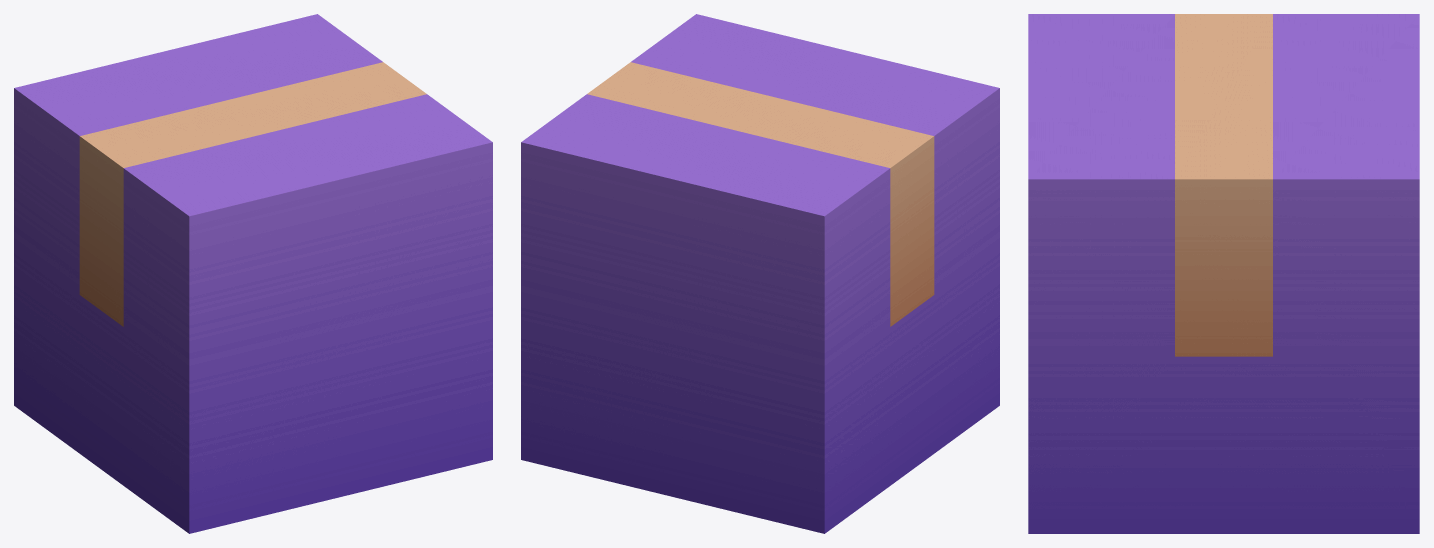
The model's file is Purple.glb.
The picture shows the model from 3 angles, left to right: view 1: azimuth 30°, elevation 25°; view 2: azimuth 150°, elevation 25°; view 3: azimuth 270°, elevation 25°; orthographic projection. The views are drawn at different scales.
Parts seen in each view (by area): view 1: box-small; view 2: box-small; view 3: box-small.
Boxes of the visible parts, x1,y1,x2,y2 form: box-small: (14,14,492,533); box-small: (521,14,999,533); box-small: (1028,14,1419,533).
Size of the model in its own units: 0.5 by 0.5 by 0.5.
1 material, 1 textured.
